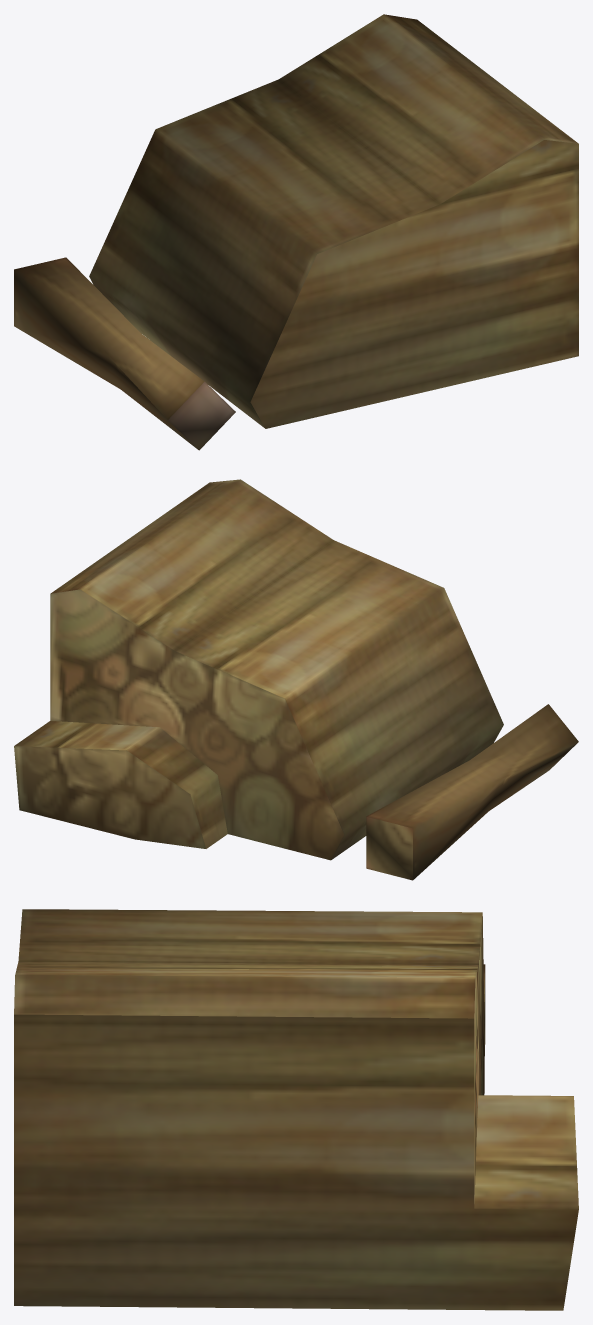
Rendered from taoyuanzhen_mucai.FBX.
3 views of the same model, one above another, from view 1: azimuth 30°, elevation 25°; view 2: azimuth 150°, elevation 25°; view 3: azimuth 270°, elevation 25° (orthographic). The views are drawn at different scales.
Parts seen in each view (by area): view 1: taoyuanzhen_mucai; view 2: taoyuanzhen_mucai; view 3: taoyuanzhen_mucai.
Part boxes in pixels (x1,y1,x2,y2): taoyuanzhen_mucai: (14, 14, 578, 450); taoyuanzhen_mucai: (14, 479, 578, 880); taoyuanzhen_mucai: (14, 909, 578, 1310).
Size of the model in its own units: 150 by 80.08 by 129.
